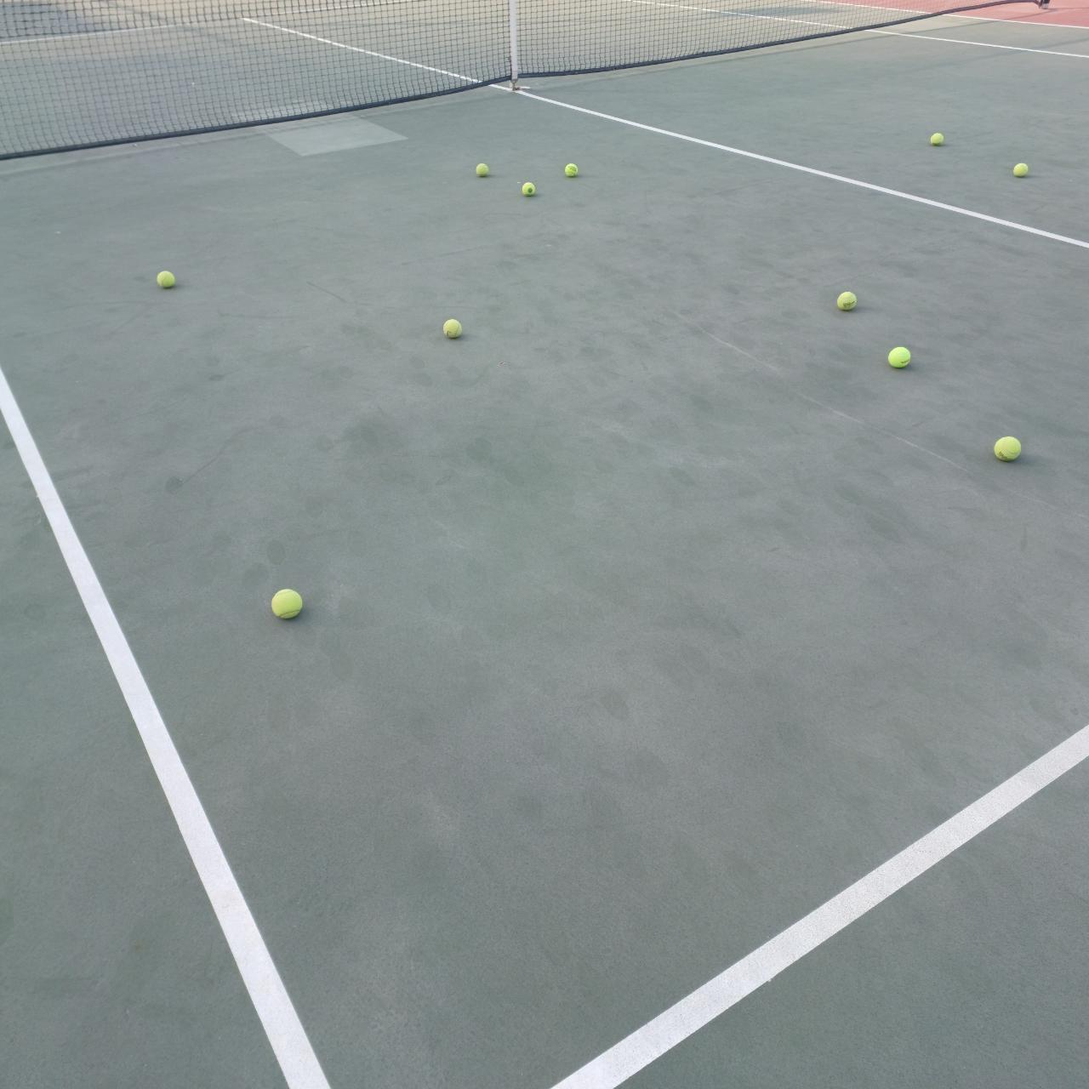tennis-ball: (270, 586, 303, 619), (992, 434, 1021, 461), (887, 344, 911, 368), (441, 316, 463, 339), (835, 288, 857, 310), (156, 268, 175, 288), (1012, 160, 1029, 177), (562, 161, 578, 177), (928, 130, 944, 145), (520, 180, 535, 196), (474, 161, 489, 176)
